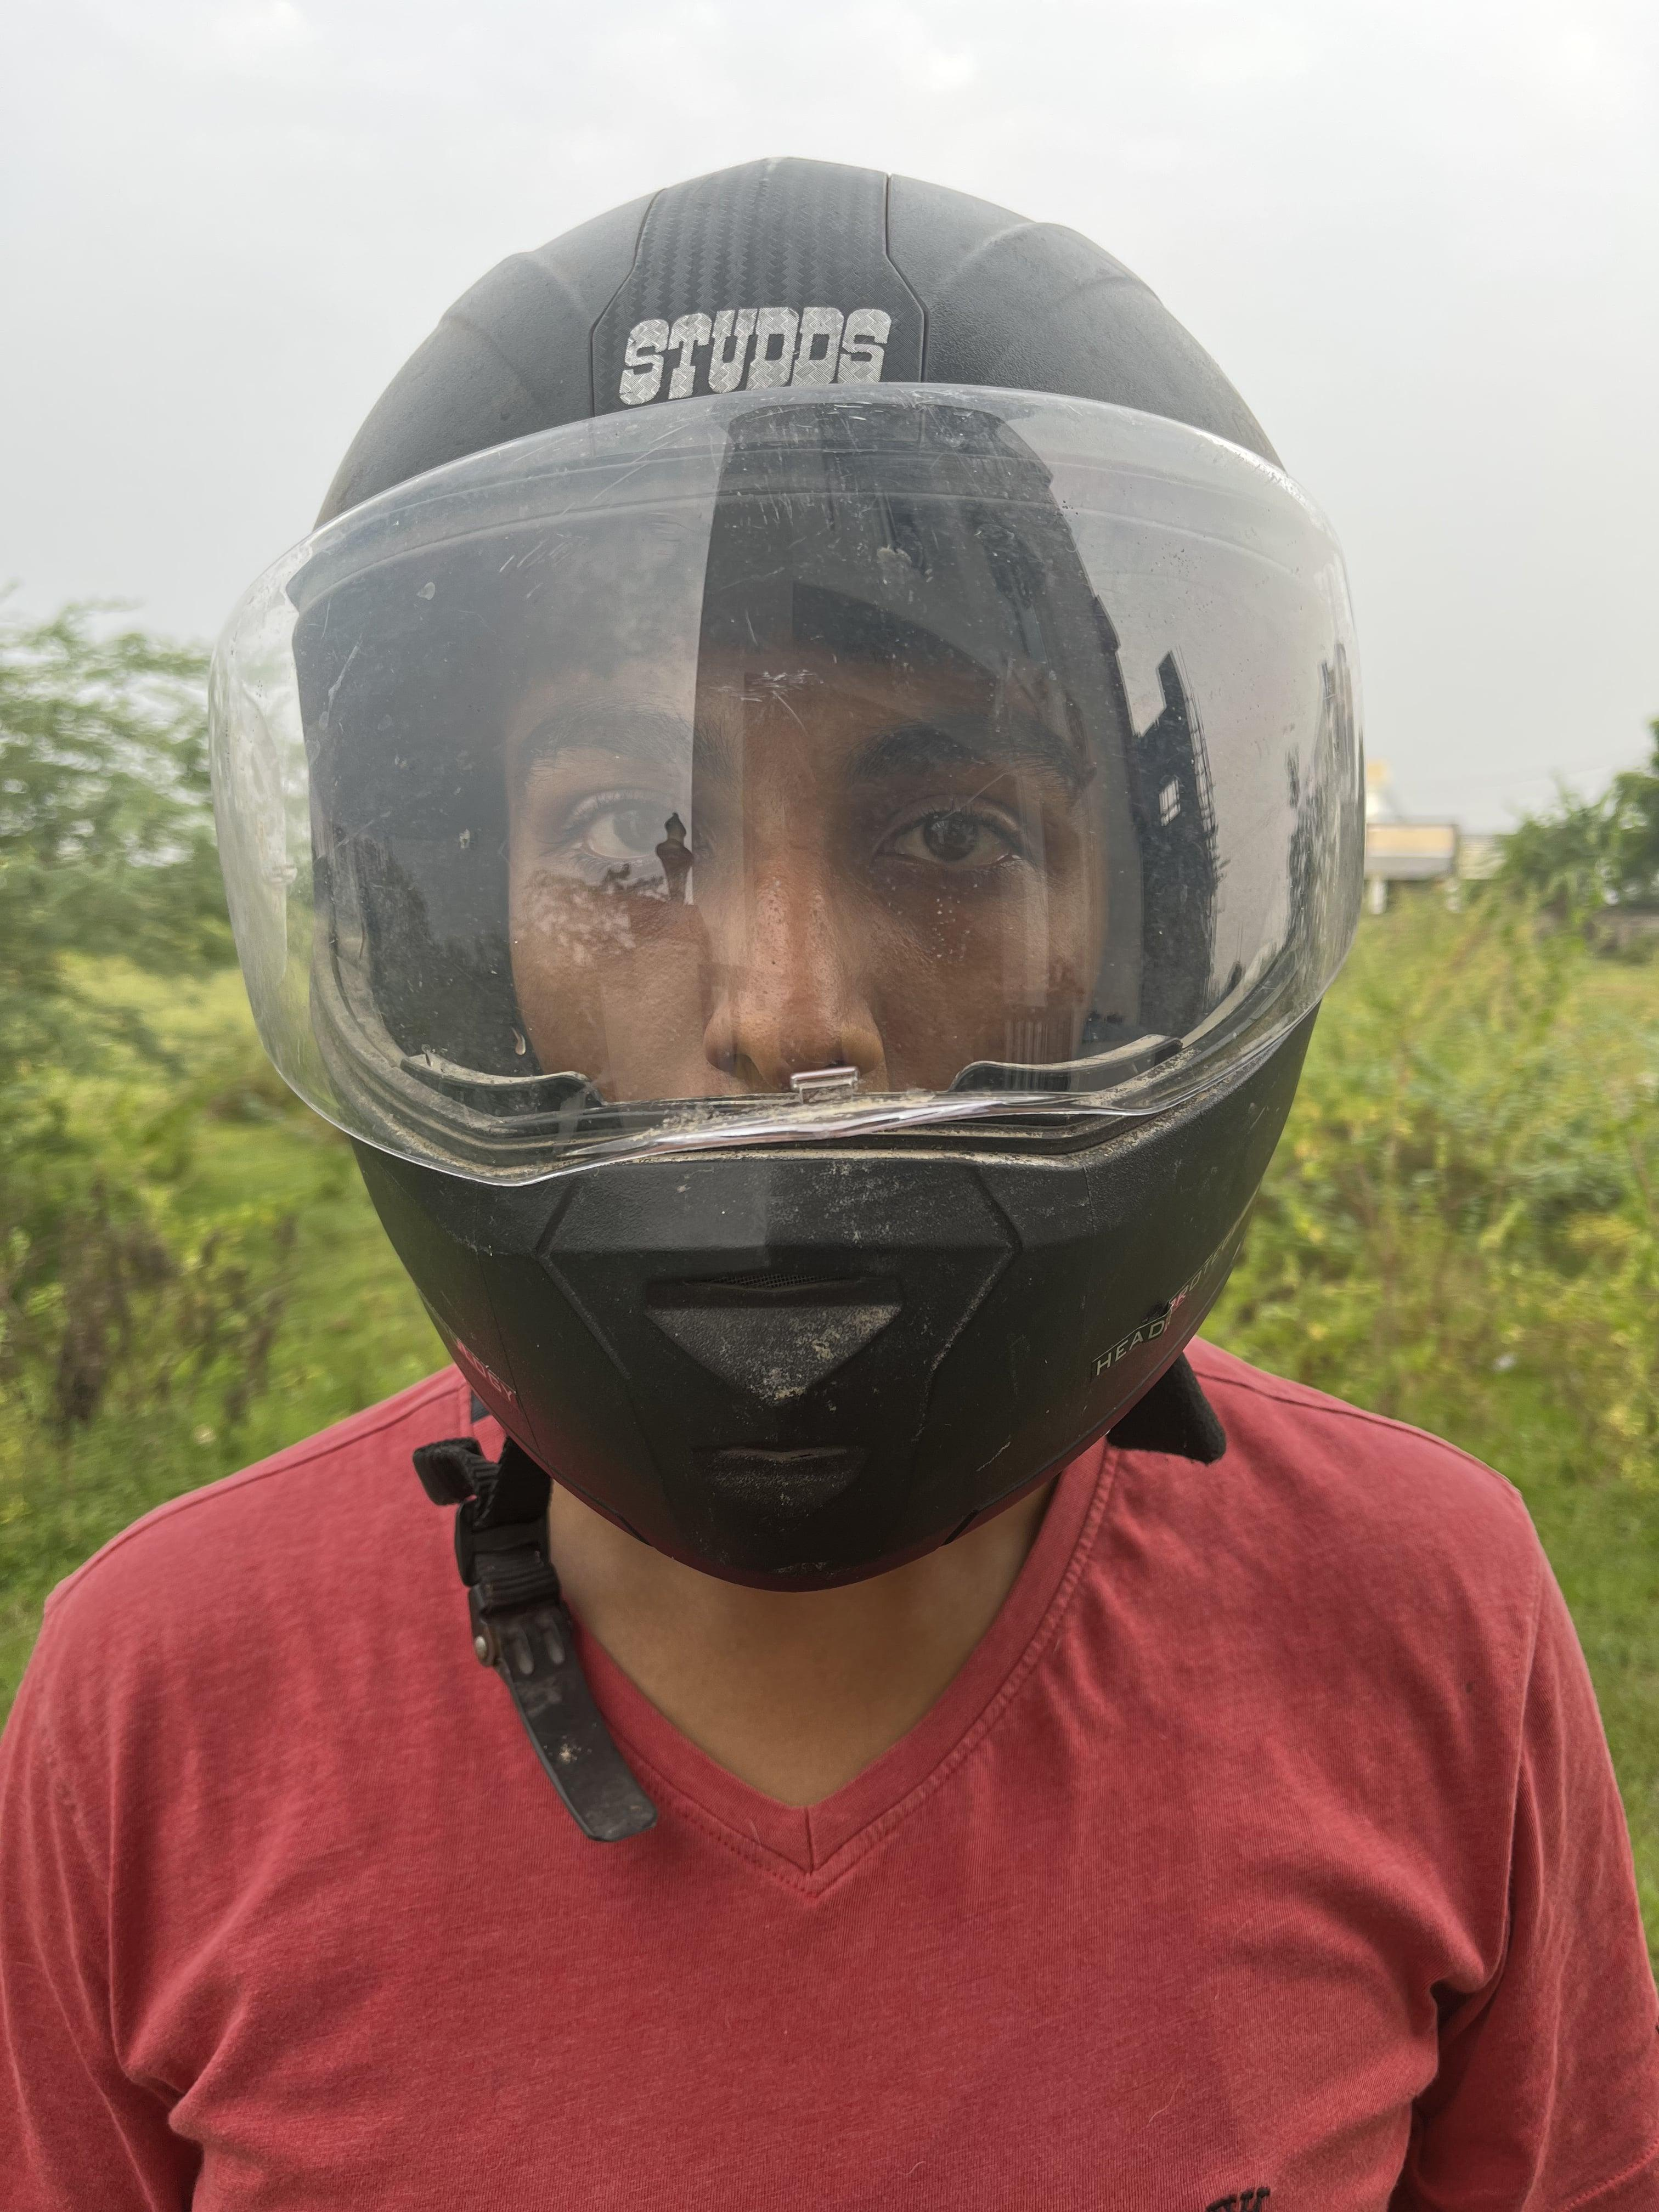helmet: (211, 164, 1361, 1590)
